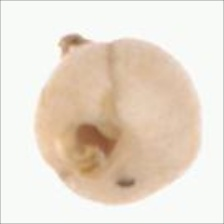L3: (66, 121, 120, 175)
L4: (35, 33, 202, 205)
